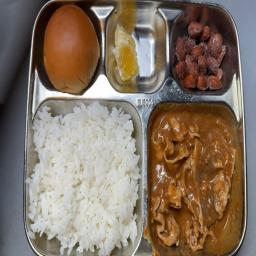100_beef: (147, 104, 244, 251)
100_bread: (38, 1, 100, 95)
100_nuts: (30, 96, 138, 256), (173, 13, 227, 93)
25_orange: (108, 17, 162, 90)
